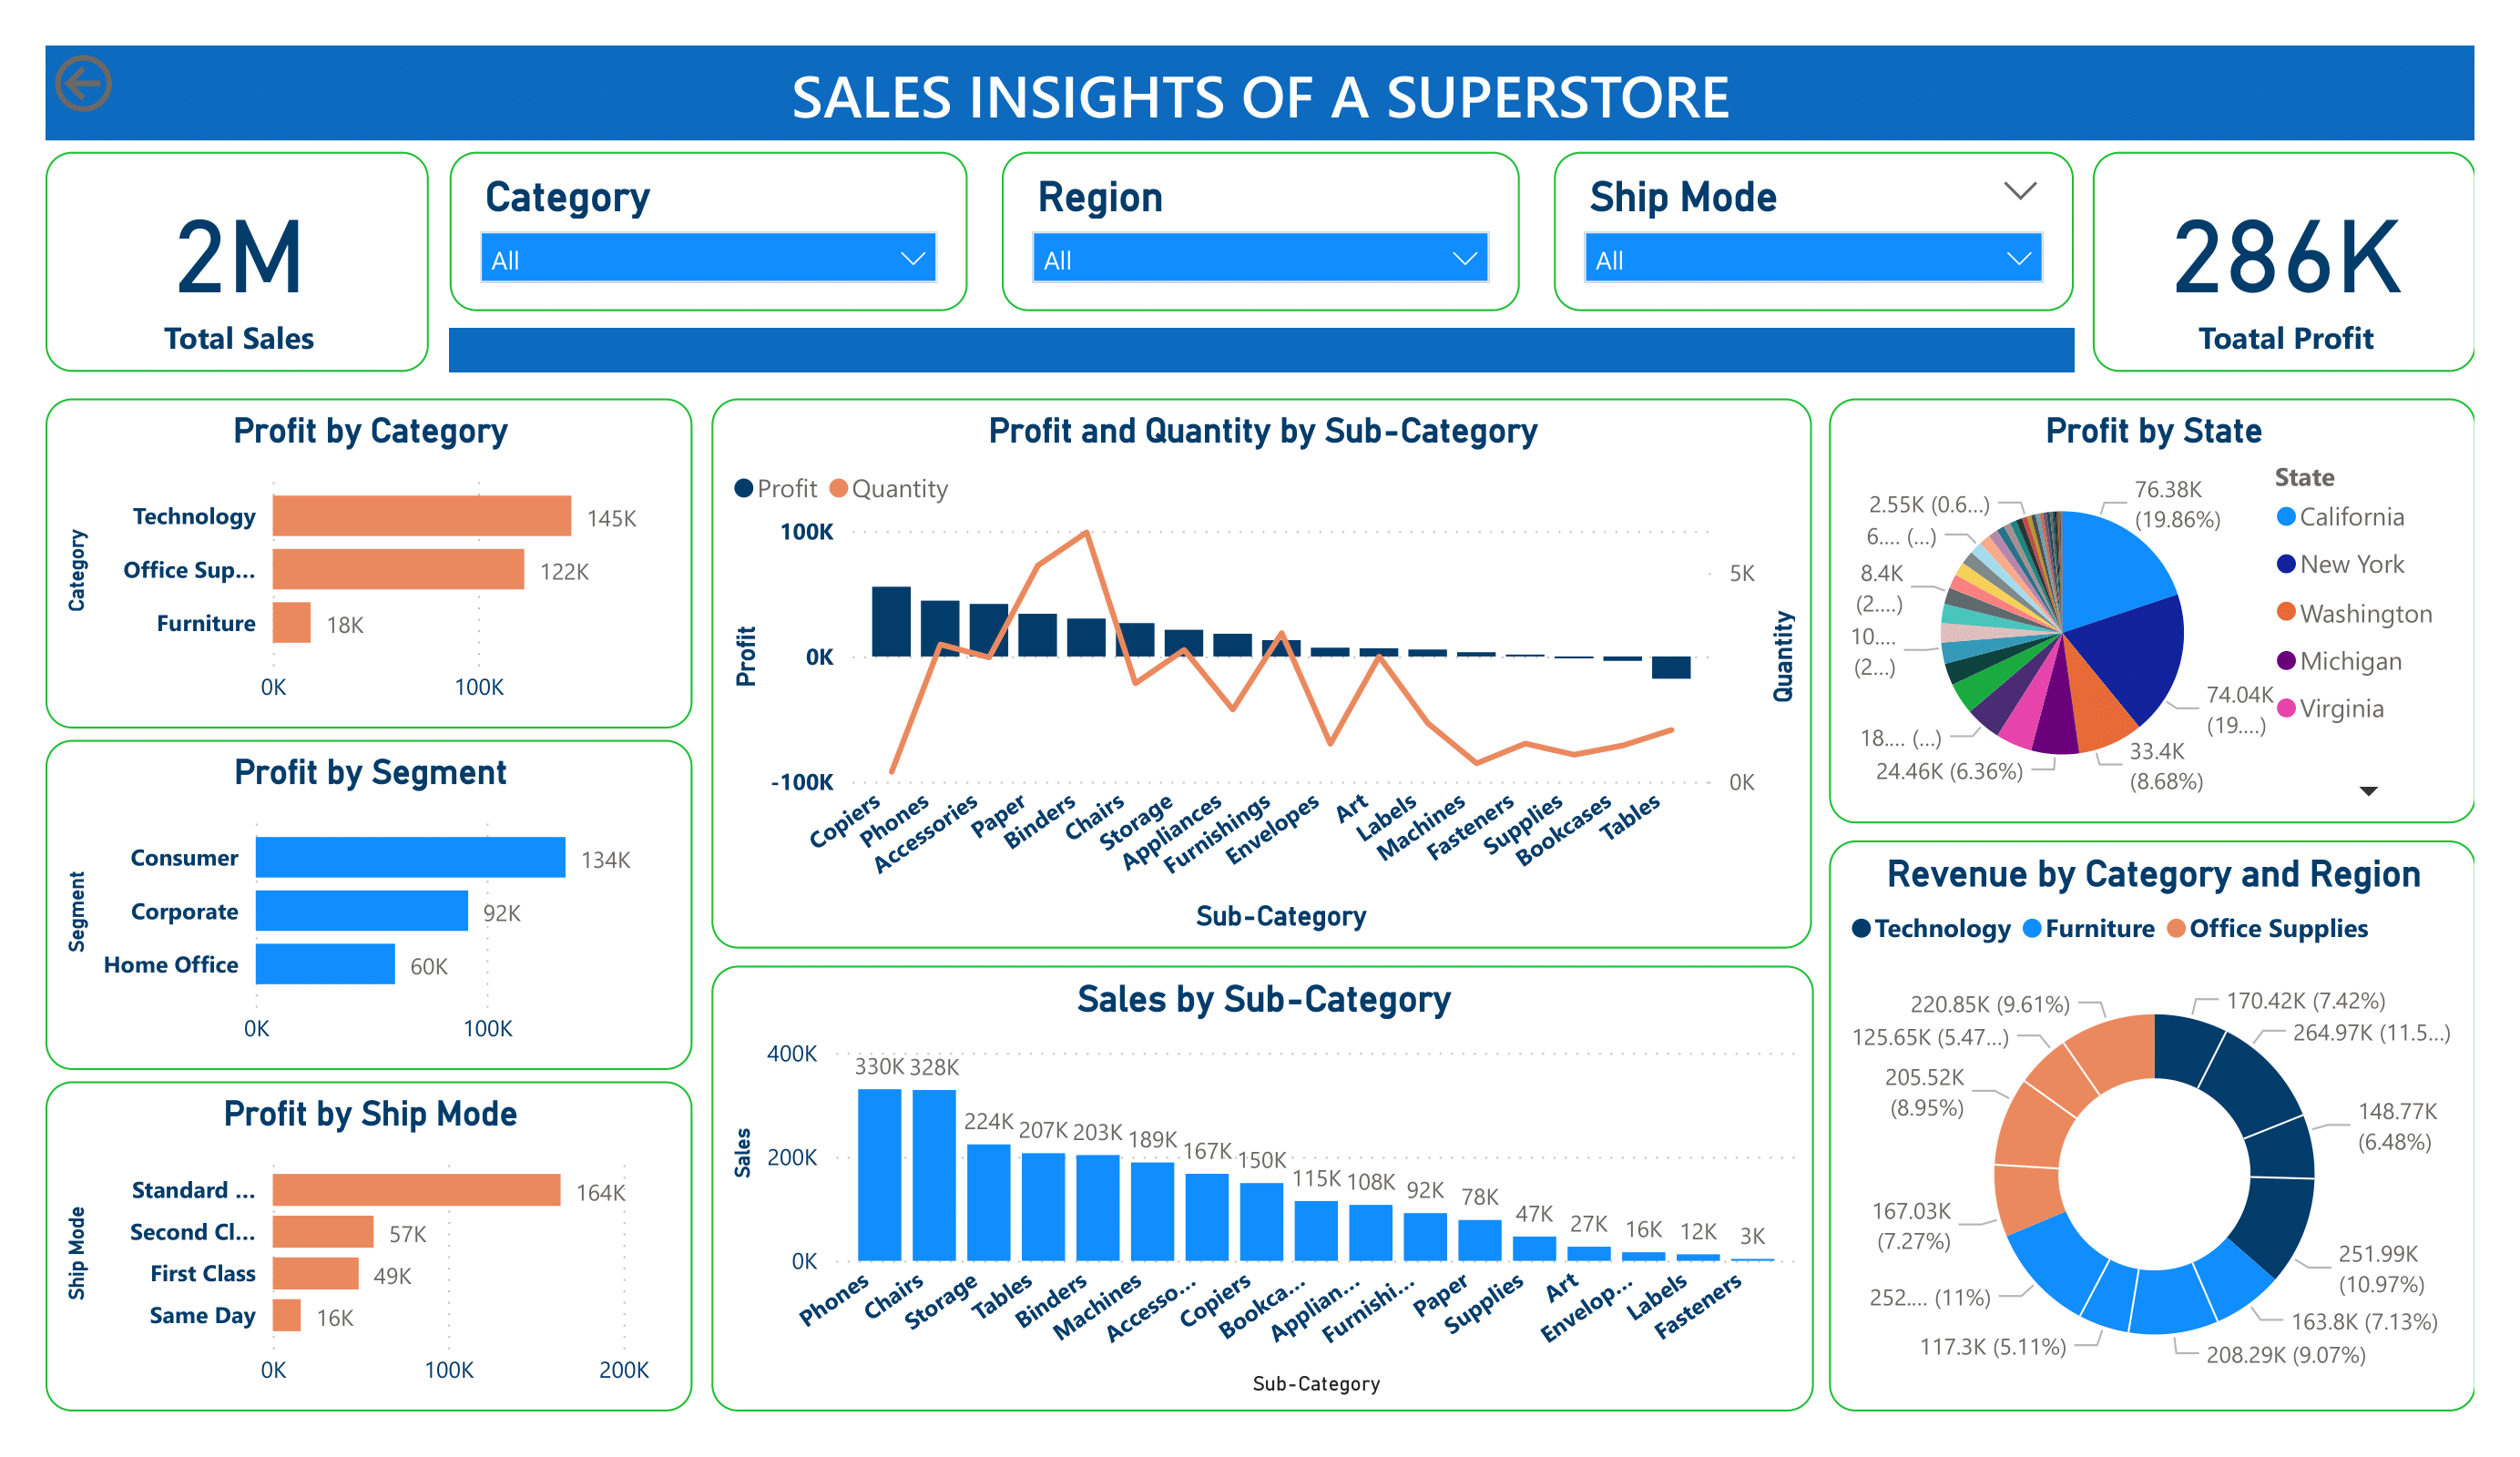

What the dashboard file says about the page in this screenshot:
{"tool":"powerbi","page":{"name":"Page 1","canvas":[1280,720],"ordinal":0},"visuals":[{"type":"card","fields":{"Values":["Sum(SampleSuperstore.Sales)"]},"box":[0,55.8,201.6,116.2],"z":0},{"type":"shape","box":[0,0,1280.5,50.1],"z":1000},{"type":"card","fields":{"Values":["Sum(SampleSuperstore.Profit)"]},"box":[1078.9,55.8,201.6,116.2],"z":2000},{"type":"clusteredBarChart","title":" Profit by Category","fields":{"Y":["Sum(SampleSuperstore.Profit)"],"Category":["SampleSuperstore.Category"]},"box":[0,185.7,340.6,174.3],"z":3000},{"type":"slicer","fields":{"Values":["SampleSuperstore.Category"]},"box":[213,55.8,273.4,84.3],"z":4000},{"type":"slicer","fields":{"Values":["SampleSuperstore.Region"]},"box":[503.5,55.8,273.4,84.3],"z":5000},{"type":"slicer","fields":{"Values":["SampleSuperstore.Ship Mode"]},"box":[795.2,55.8,273.4,84.3],"z":6000},{"type":"actionButton","box":[0,0,100,40],"z":7000},{"type":"shape","box":[213,149.2,855.6,22.8],"z":8000},{"type":"donutChart","fields":{"Category":["SampleSuperstore.Category"],"Y":["Sum(SampleSuperstore.Sales)"],"Series":["SampleSuperstore.Region"]},"box":[939.9,419.2,340.6,300.8],"z":9000},{"type":"clusteredColumnChart","fields":{"Category":["SampleSuperstore.Sub-Category"],"Y":["Sum(SampleSuperstore.Sales)"]},"box":[350.9,485.3,581,234.7],"z":10000},{"type":"clusteredBarChart","title":"Profit by Ship Mode","fields":{"Y":["Sum(SampleSuperstore.Profit)"],"Category":["SampleSuperstore.Ship Mode"]},"box":[0,545.7,340.6,174.3],"z":11000},{"type":"clusteredBarChart","title":" Profit by Segment","fields":{"Y":["Sum(SampleSuperstore.Profit)"],"Category":["SampleSuperstore.Segment"]},"box":[0,365.7,340.6,174.3],"z":12000},{"type":"lineClusteredColumnComboChart","title":"Profit and Quantity by Sub-Category","fields":{"Category":["SampleSuperstore.Sub-Category"],"Y":["Sum(SampleSuperstore.Profit)"],"Y2":["Sum(SampleSuperstore.Quantity)"]},"box":[351,186,580,290],"z":13000},{"type":"pieChart","title":"Profit by State","fields":{"Y":["Sum(SampleSuperstore.Profit)"],"Category":["SampleSuperstore.State"]},"box":[939.9,185.7,340.6,224.4],"z":14000}]}

Visuals, with their boxes in screenshot pixels (x1, y1, x2, y2):
card - Sum(SampleSuperstore.Sales): region(46, 151, 428, 372)
shape: region(46, 46, 2474, 140)
card - Sum(SampleSuperstore.Profit): region(2093, 151, 2474, 372)
" Profit by Category" clusteredBarChart: region(46, 398, 692, 728)
slicer - SampleSuperstore.Category: region(450, 151, 968, 311)
slicer - SampleSuperstore.Region: region(1001, 151, 1520, 311)
slicer - SampleSuperstore.Ship Mode: region(1555, 151, 2074, 311)
actionButton: region(46, 46, 235, 121)
shape: region(450, 329, 2074, 372)
donutChart - SampleSuperstore.Category x Sum(SampleSuperstore.Sales): region(1829, 841, 2474, 1411)
clusteredColumnChart - SampleSuperstore.Sub-Category x Sum(SampleSuperstore.Sales): region(711, 966, 1814, 1411)
"Profit by Ship Mode" clusteredBarChart: region(46, 1081, 692, 1411)
" Profit by Segment" clusteredBarChart: region(46, 739, 692, 1070)
"Profit and Quantity by Sub-Category" lineClusteredColumnComboChart: region(711, 399, 1812, 949)
"Profit by State" pieChart: region(1829, 398, 2474, 823)
